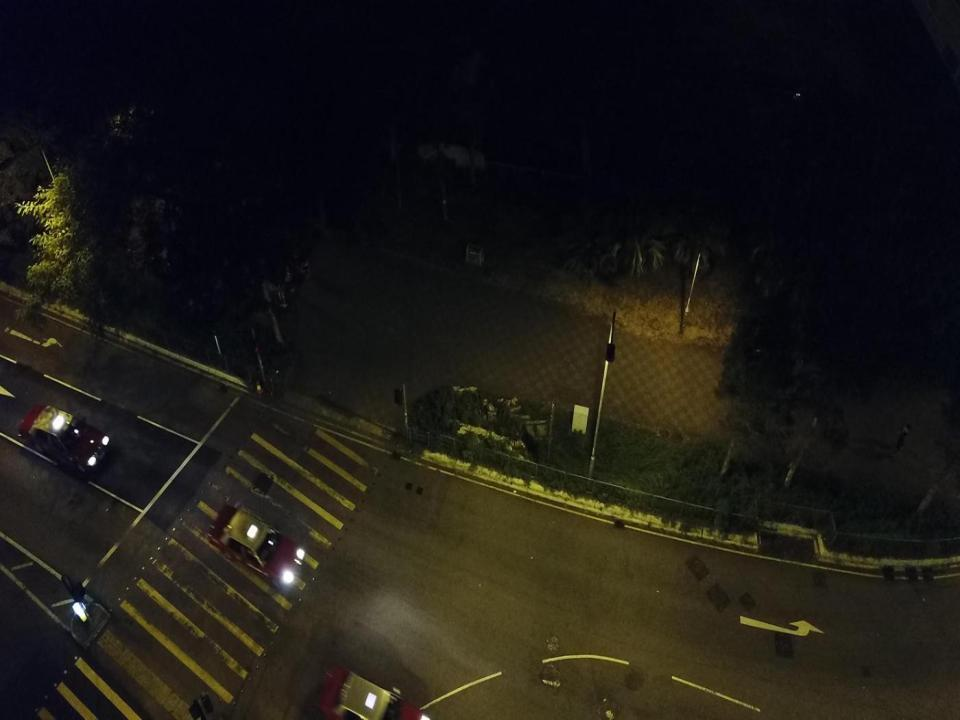car: (207, 503, 305, 590), (19, 402, 111, 474), (318, 663, 434, 719)
